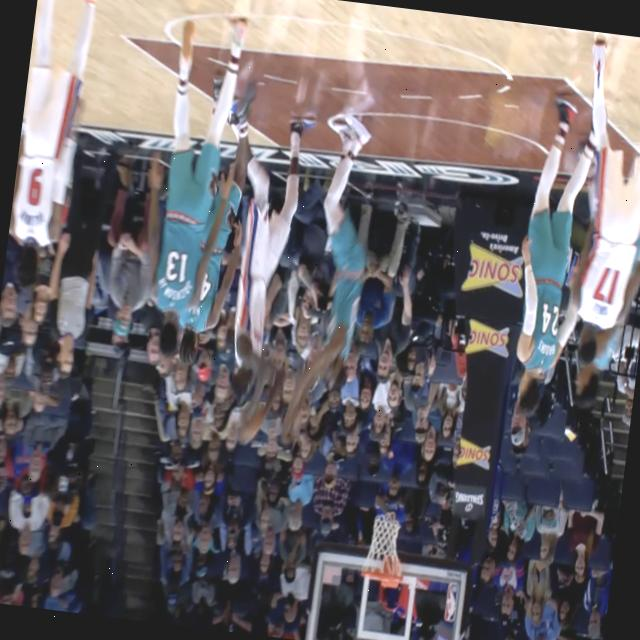no foul: (194, 70, 325, 454), (136, 4, 268, 354), (279, 82, 392, 432)
